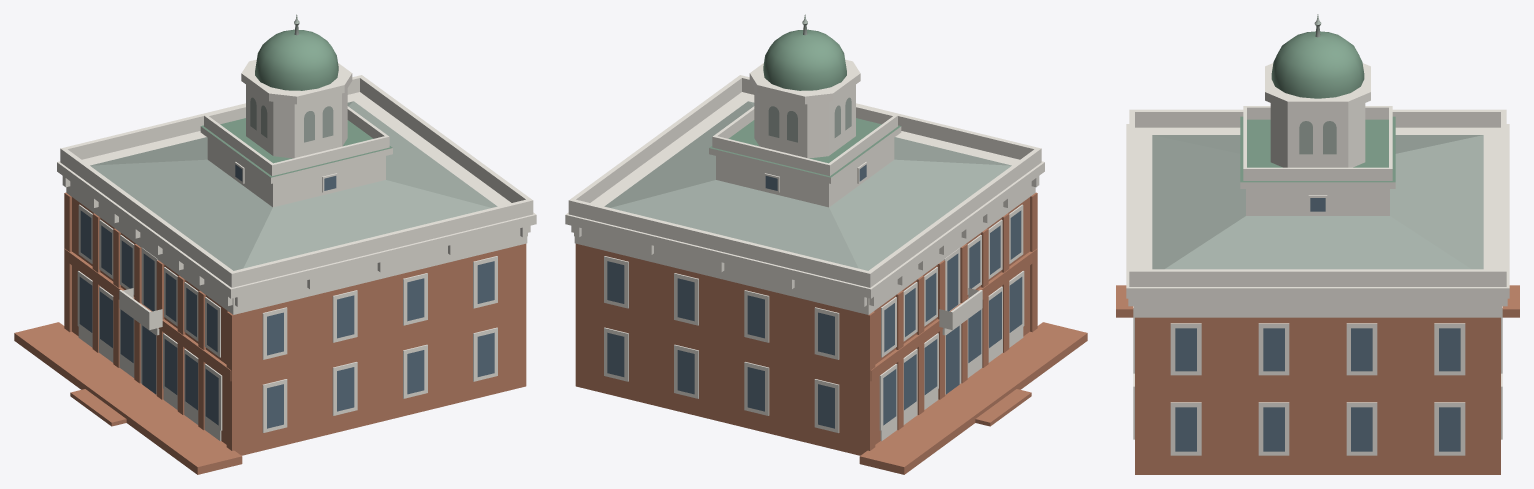
Rendered from slc-council-hall.glb.
3 views of the same model, side by side, from view 1: azimuth 30°, elevation 25°; view 2: azimuth 150°, elevation 25°; view 3: azimuth 270°, elevation 25° (orthographic). The views are drawn at different scales.
Visible parts, largest first — view 1: Council Hall; view 2: Council Hall; view 3: Council Hall.
Part boxes in pixels (box(x1,y1,x2,y2)): Council Hall: box(14, 14, 536, 474); Council Hall: box(565, 14, 1087, 474); Council Hall: box(1116, 14, 1519, 474).
Size of the model in its own units: 24.11 by 22.3 by 21.35.
